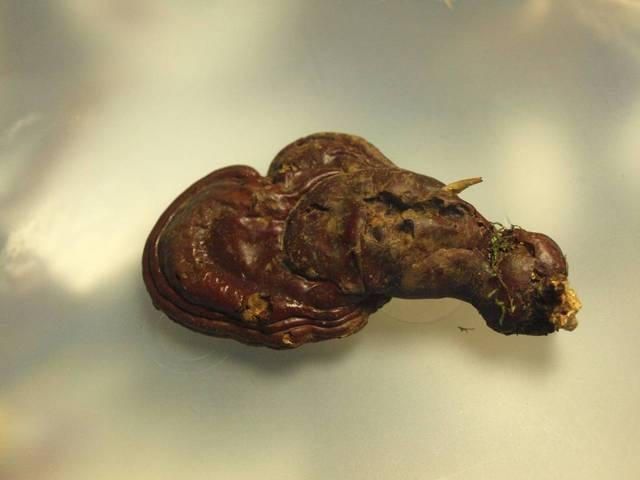Non-edible Mushroom: (140, 129, 582, 350)
